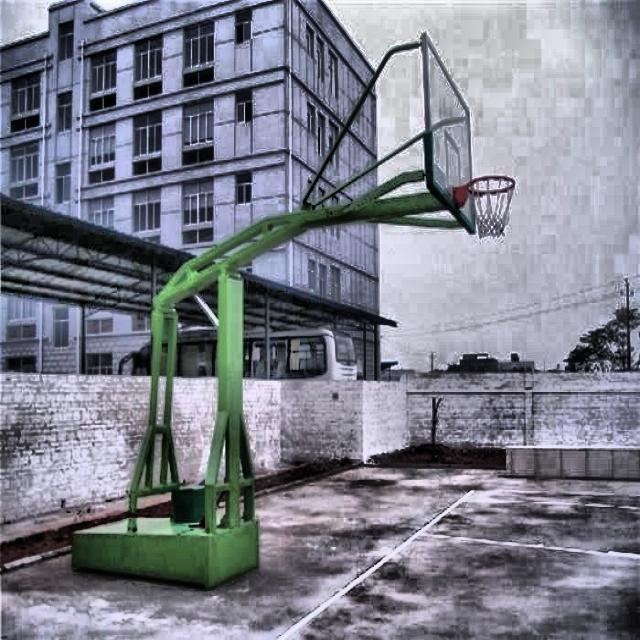rim: (470, 175, 516, 239)
